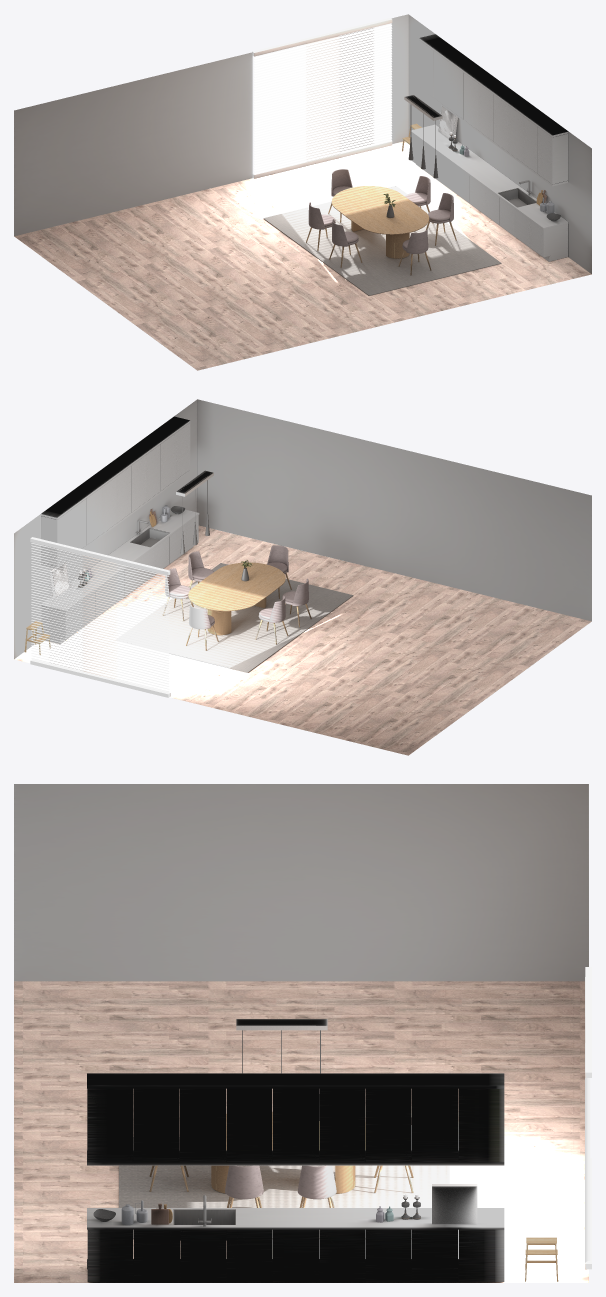
The model's file is dining_room__kichen_baked.glb.
3 renders of one model, top to bottom at view 1: azimuth 30°, elevation 25°; view 2: azimuth 150°, elevation 25°; view 3: azimuth 270°, elevation 25°, orthographic. The views are drawn at different scales.
Parts seen in each view (by area): view 1: floor, house, window, cabinet, carpet, table, seat, lighting, faucet; view 2: house, floor, cabinet, window, carpet, table, seat, lighting, faucet, painting; view 3: house, floor, cabinet, carpet, seat, window, painting, lighting, table, faucet, IKEA seat.
Part boxes in pixels (x1,y1,x2,y2): floor: (14,141,591,370); house: (14,14,591,273); window: (252,18,392,178); cabinet: (410,34,568,261); carpet: (263,186,501,295); table: (331,186,429,258); seat: (306,169,456,275); lighting: (404,94,442,178); faucet: (498,180,536,207); house: (14,399,591,658); floor: (14,525,591,755); cabinet: (41,416,199,644); window: (30,537,170,697); carpet: (116,563,353,672); table: (188,562,285,635); seat: (162,545,311,650); lighting: (176,470,213,554); faucet: (130,520,169,547); painting: (50,562,69,598); house: (14,784,588,981); floor: (14,981,588,1282); cabinet: (87,1073,504,1281); carpet: (119,1137,449,1238); seat: (149,1089,413,1207); window: (585,967,591,1269); painting: (432,1184,477,1224); lighting: (236,1019,327,1120); table: (211,1112,365,1193); faucet: (173,1195,235,1226); IKEA seat: (525,1237,558,1281).
Size of the model in its own units: 9.84 by 3 by 7.97.
Materials: 28 (26 with a texture image).
